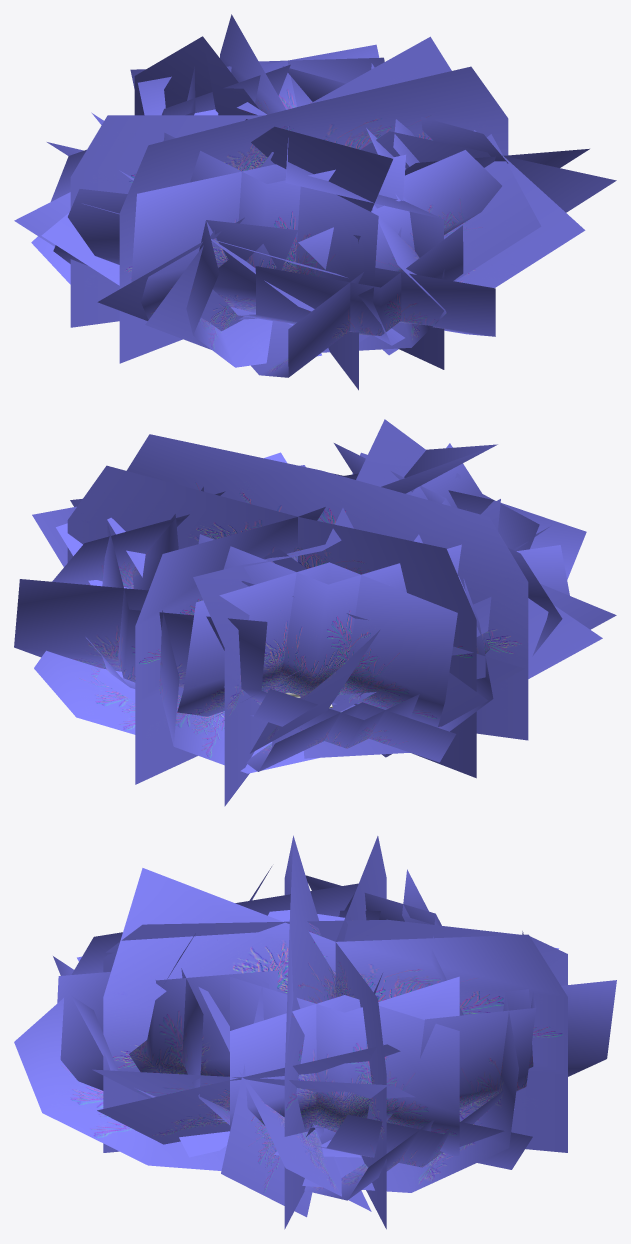
File: Bush_Lavender00b Variant.fbx
3 views of the same model, one above another, from view 1: azimuth 30°, elevation 25°; view 2: azimuth 150°, elevation 25°; view 3: azimuth 270°, elevation 25° (orthographic). The views are drawn at different scales.
Parts seen in each view (by area): view 1: Lavender_bush12, Lavender_bush07, Lavender_bush10, Lavender_bush02, Lavender_bush08, Lavender_bush09, Lavender_bush01, Lavender_bush06, Lavender_bush00, Lavender_bush11, Lavender_bush05, Lavender_bush04; view 2: Lavender_bush12, Lavender_bush05, Lavender_bush06, Lavender_bush04, Lavender_bush01, Lavender_bush11, Lavender_bush00, Lavender_bush03, Lavender_bush08, Lavender_bush07, Lavender_bush10, Lavender_bush02 (+1 smaller); view 3: Lavender_bush12, Lavender_bush11, Lavender_bush02, Lavender_bush06, Lavender_bush09, Lavender_bush10, Lavender_bush03, Lavender_bush07, Lavender_bush05, Lavender_bush01.
Part boxes in pixels (x1,y1,x2,y2): Lavender_bush12: (70,14,508,390); Lavender_bush07: (131,132,405,345); Lavender_bush10: (231,225,495,377); Lavender_bush02: (359,130,616,355); Lavender_bush08: (53,189,321,367); Lavender_bush09: (238,128,501,352); Lavender_bush01: (82,152,347,349); Lavender_bush06: (130,44,384,115); Lavender_bush00: (14,102,266,285); Lavender_bush11: (283,53,508,166); Lavender_bush05: (50,64,293,325); Lavender_bush04: (31,236,70,284); Lavender_bush12: (67,419,528,806); Lavender_bush05: (177,534,461,727); Lavender_bush06: (14,523,336,773); Lavender_bush04: (246,688,456,771); Lavender_bush01: (222,499,616,748); Lavender_bush11: (52,486,225,701); Lavender_bush00: (207,549,524,757); Lavender_bush03: (34,637,135,734); Lavender_bush08: (304,509,569,758); Lavender_bush07: (334,443,562,656); Lavender_bush10: (352,452,586,579); Lavender_bush02: (32,452,305,711); Lavender_bush12: (103,835,567,1229); Lavender_bush11: (230,976,459,1156); Lavender_bush02: (92,981,415,1217); Lavender_bush06: (222,931,616,1192); Lavender_bush09: (57,968,360,1157); Lavender_bush10: (14,956,226,1170); Lavender_bush03: (304,1089,532,1200); Lavender_bush07: (71,866,358,983); Lavender_bush05: (305,869,514,1144); Lavender_bush01: (77,956,323,1157).
Size of the model in its own units: 270 by 119 by 263.
